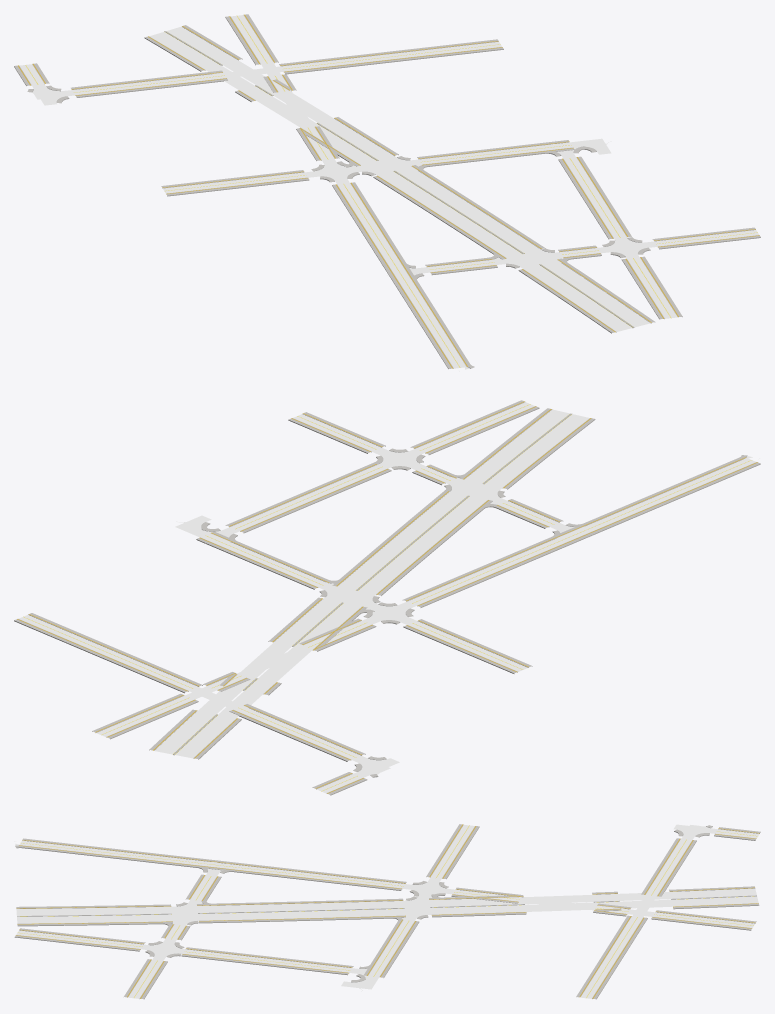
Rendered from roads_3_1.gltf.
3 views of the same model, one above another, from view 1: azimuth 30°, elevation 25°; view 2: azimuth 150°, elevation 25°; view 3: azimuth 270°, elevation 25° (orthographic). The views are drawn at different scales.
Visible parts, largest first — view 1: roads_3_1_SH_wet_asphalt, roads_3_1_SH_sidewalk, roads_3_1_SH_kerb, roads_3_1_Road_Tactile_Strip, roads_3_1_SH_road_marking_white, roads_3_1_SH_road_marking_yellow; view 2: roads_3_1_SH_wet_asphalt, roads_3_1_SH_sidewalk, roads_3_1_SH_kerb, roads_3_1_Road_Tactile_Strip, roads_3_1_SH_road_marking_white, roads_3_1_SH_road_marking_yellow; view 3: roads_3_1_SH_wet_asphalt, roads_3_1_SH_sidewalk, roads_3_1_SH_kerb, roads_3_1_Road_Tactile_Strip, roads_3_1_SH_road_marking_white, roads_3_1_SH_road_marking_yellow.
Boxes of the visible parts, bbox=[...] form: roads_3_1_SH_wet_asphalt: bbox=[20, 15, 758, 369]; roads_3_1_SH_sidewalk: bbox=[14, 14, 760, 368]; roads_3_1_SH_kerb: bbox=[19, 15, 759, 368]; roads_3_1_Road_Tactile_Strip: bbox=[18, 14, 759, 368]; roads_3_1_SH_road_marking_white: bbox=[20, 15, 755, 371]; roads_3_1_SH_road_marking_yellow: bbox=[25, 16, 757, 367]; roads_3_1_SH_wet_asphalt: bbox=[19, 402, 755, 793]; roads_3_1_SH_sidewalk: bbox=[14, 400, 760, 795]; roads_3_1_SH_kerb: bbox=[18, 401, 756, 793]; roads_3_1_Road_Tactile_Strip: bbox=[17, 401, 757, 793]; roads_3_1_SH_road_marking_white: bbox=[20, 402, 759, 792]; roads_3_1_SH_road_marking_yellow: bbox=[23, 404, 751, 791]; roads_3_1_SH_wet_asphalt: bbox=[15, 824, 759, 998]; roads_3_1_SH_sidewalk: bbox=[14, 824, 760, 999]; roads_3_1_SH_kerb: bbox=[15, 824, 759, 998]; roads_3_1_Road_Tactile_Strip: bbox=[16, 824, 759, 998]; roads_3_1_SH_road_marking_white: bbox=[14, 825, 757, 998]; roads_3_1_SH_road_marking_yellow: bbox=[18, 825, 756, 997].
Size of what is drawn, in the model's own units: 288 by 0.506 by 520.
